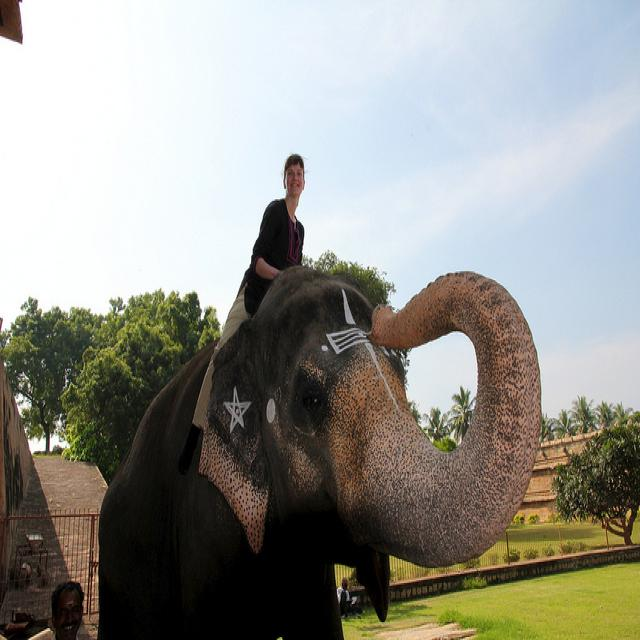Elephant: (96, 264, 542, 638)
person: (212, 153, 306, 358)
